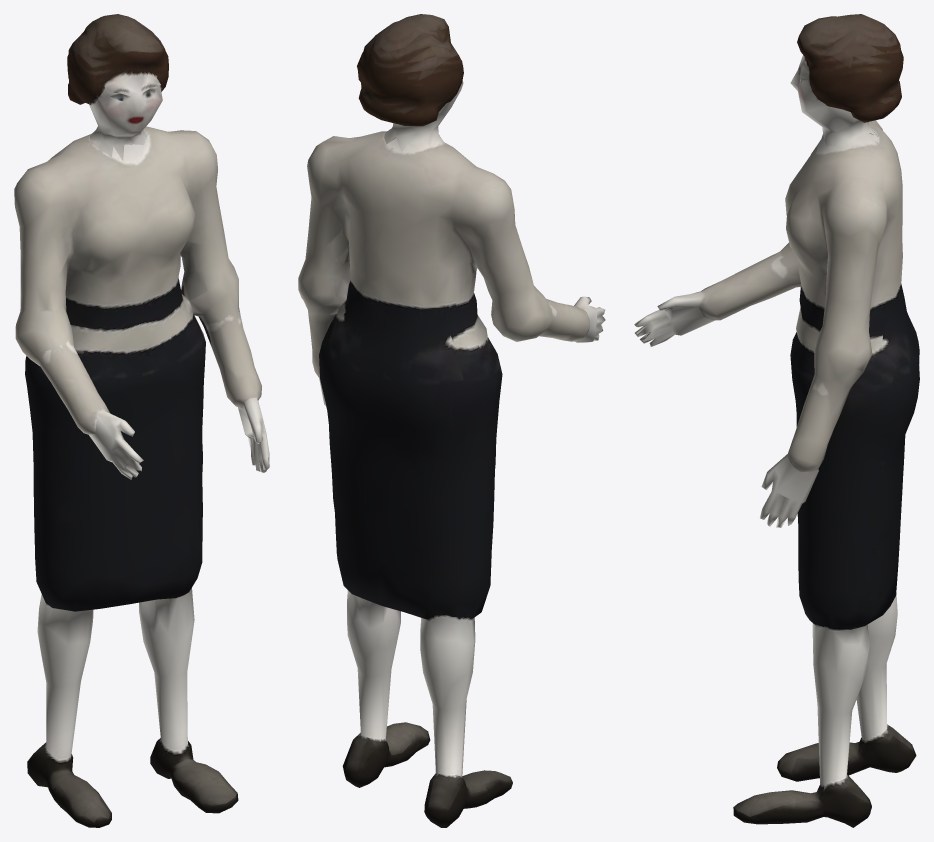
The model's file is mq_woman_blouse-low.glb.
3 views of the same model, side by side, from view 1: azimuth 30°, elevation 25°; view 2: azimuth 150°, elevation 25°; view 3: azimuth 270°, elevation 25° (orthographic).
Visible parts, largest first — view 1: mq_woman_blouse-low, mq_woman_blouse_head-low; view 2: mq_woman_blouse-low, mq_woman_blouse_head-low; view 3: mq_woman_blouse-low, mq_woman_blouse_head-low.
Part boxes in pixels (bbox=[...]): mq_woman_blouse-low: bbox=[14, 126, 269, 827]; mq_woman_blouse_head-low: bbox=[67, 14, 168, 161]; mq_woman_blouse-low: bbox=[298, 131, 605, 827]; mq_woman_blouse_head-low: bbox=[357, 14, 463, 152]; mq_woman_blouse-low: bbox=[634, 120, 919, 827]; mq_woman_blouse_head-low: bbox=[790, 14, 903, 150].
Bounding box in the file's own units: 0.5515 × 1.74 × 0.5741.
1 material, 1 textured.
